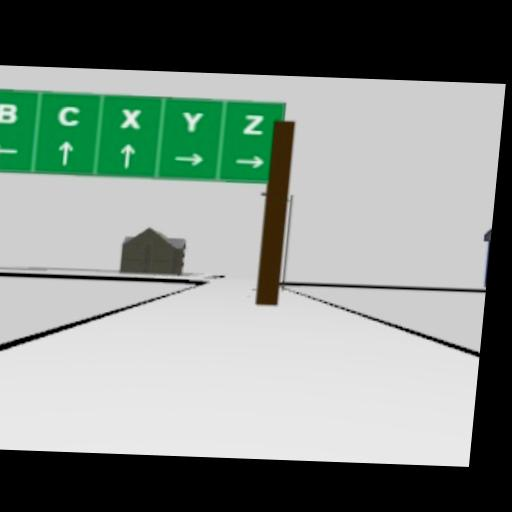B: (0, 101, 17, 122)
C: (56, 104, 80, 124)
Left: (0, 142, 20, 157)
Right: (233, 152, 266, 167), (172, 150, 205, 165)
Straight: (119, 142, 136, 167), (56, 140, 73, 164)
X: (119, 106, 143, 127)
Y: (180, 110, 204, 131)
Z: (241, 112, 265, 133)
